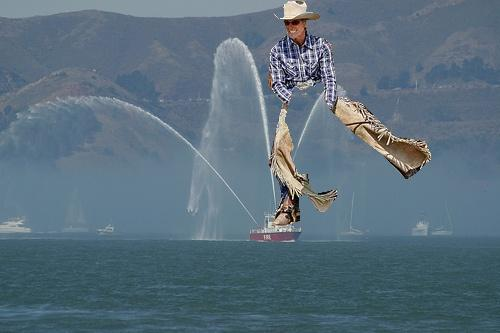tampered: (269, 2, 431, 226)
